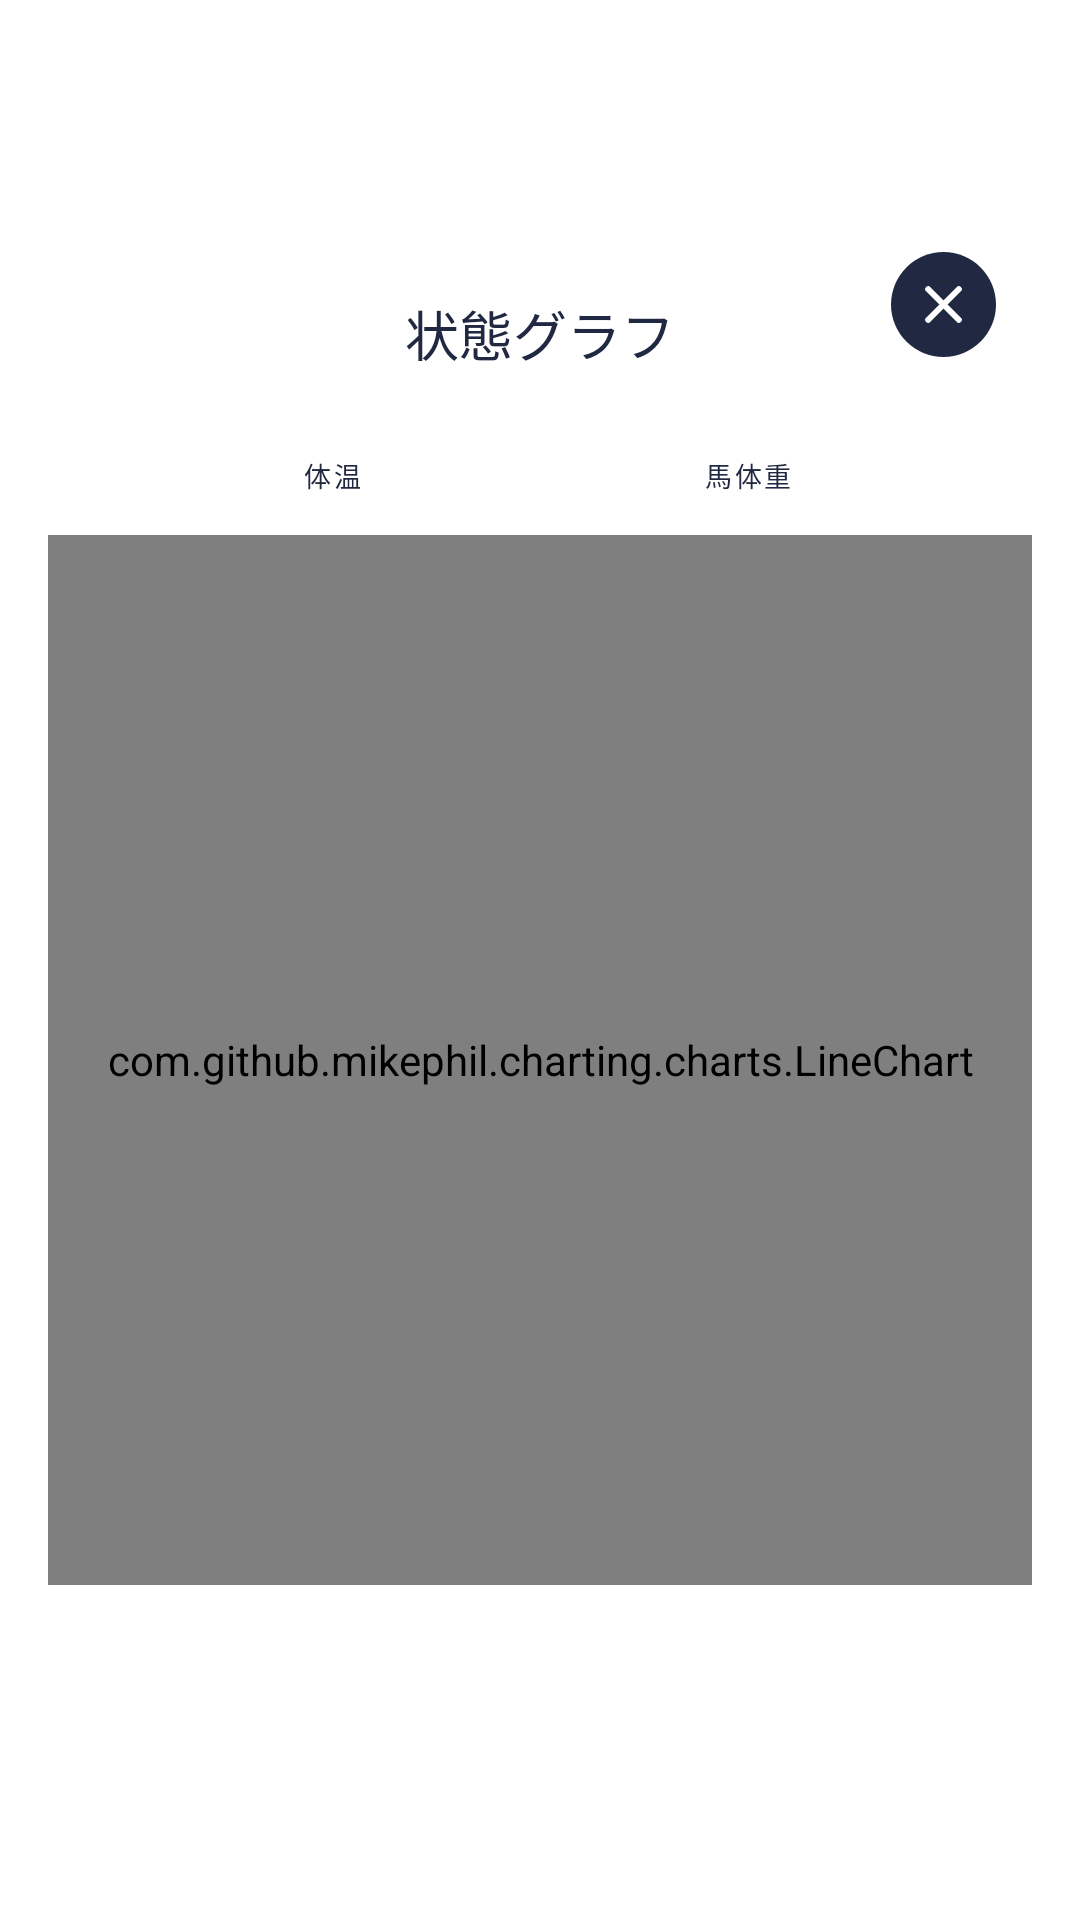

Where to tap for icons on this 1080 × 1920 app screen, as [x,y]:
close: [943,304]
